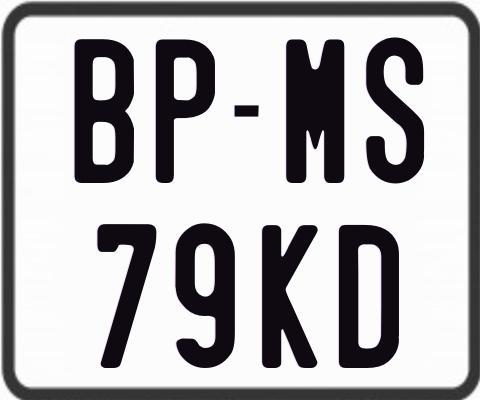7: (94, 224, 154, 369)
9: (172, 223, 233, 373)
B: (74, 36, 135, 181)
D: (338, 223, 403, 366)
K: (260, 224, 320, 371)
M: (283, 37, 342, 185)
P: (154, 38, 213, 184)
S: (366, 37, 430, 189)
